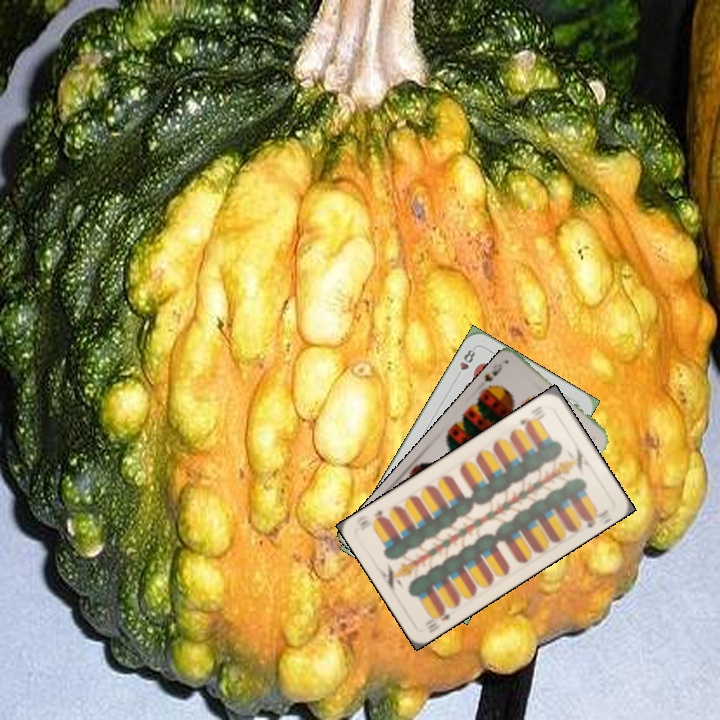E10: (423, 603, 457, 632), (516, 401, 544, 431)
H8: (452, 343, 478, 380)
S9: (478, 359, 505, 395)
